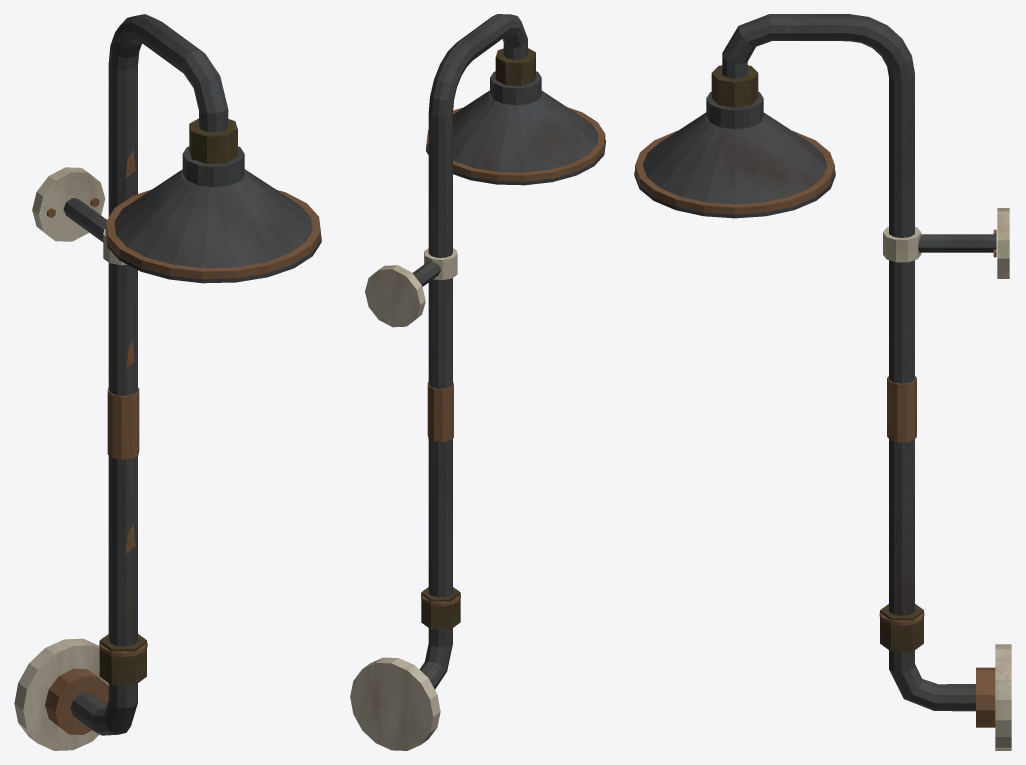
File: B21_shower_head_and_pipe.glb
3 views of the same model, side by side, from view 1: azimuth 30°, elevation 25°; view 2: azimuth 150°, elevation 25°; view 3: azimuth 270°, elevation 25° (orthographic). The views are drawn at different scales.
Parts seen in each view (by area): view 1: Lower wall escutcheon; view 2: Lower wall escutcheon; view 3: Lower wall escutcheon.
Boxes of the visible parts, x1=… form: Lower wall escutcheon: x1=14, y1=14, x2=321, y2=750; Lower wall escutcheon: x1=350, y1=14, x2=605, y2=750; Lower wall escutcheon: x1=634, y1=14, x2=1011, y2=750.
Size of the model in its own units: 0.1499 by 0.6 by 0.2809.
5 materials, 5 textured.
